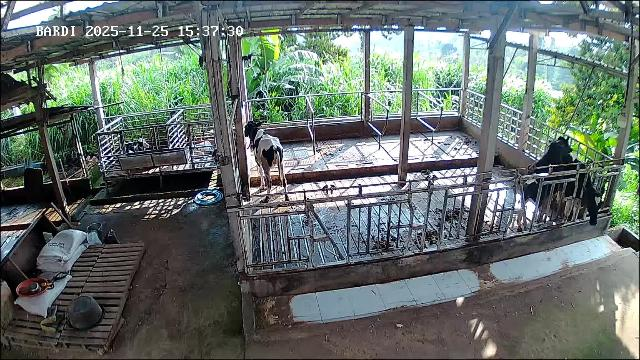mounting: (518, 136, 575, 226)
